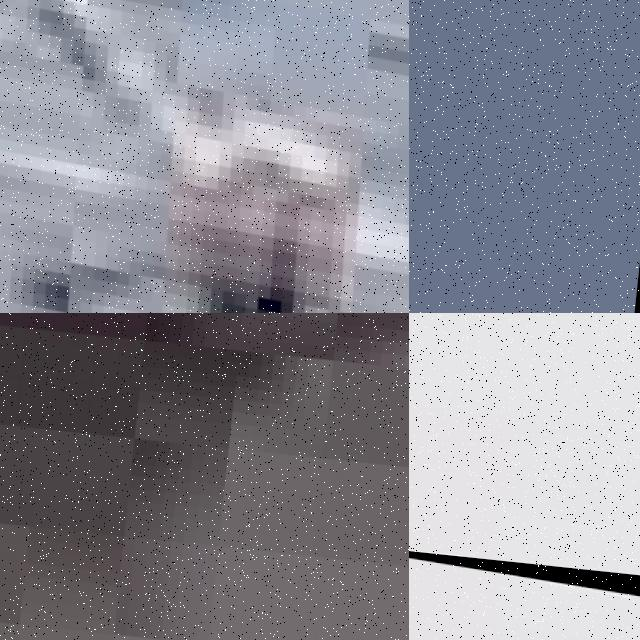drone: (0, 0, 409, 313), (409, 537, 640, 640)
